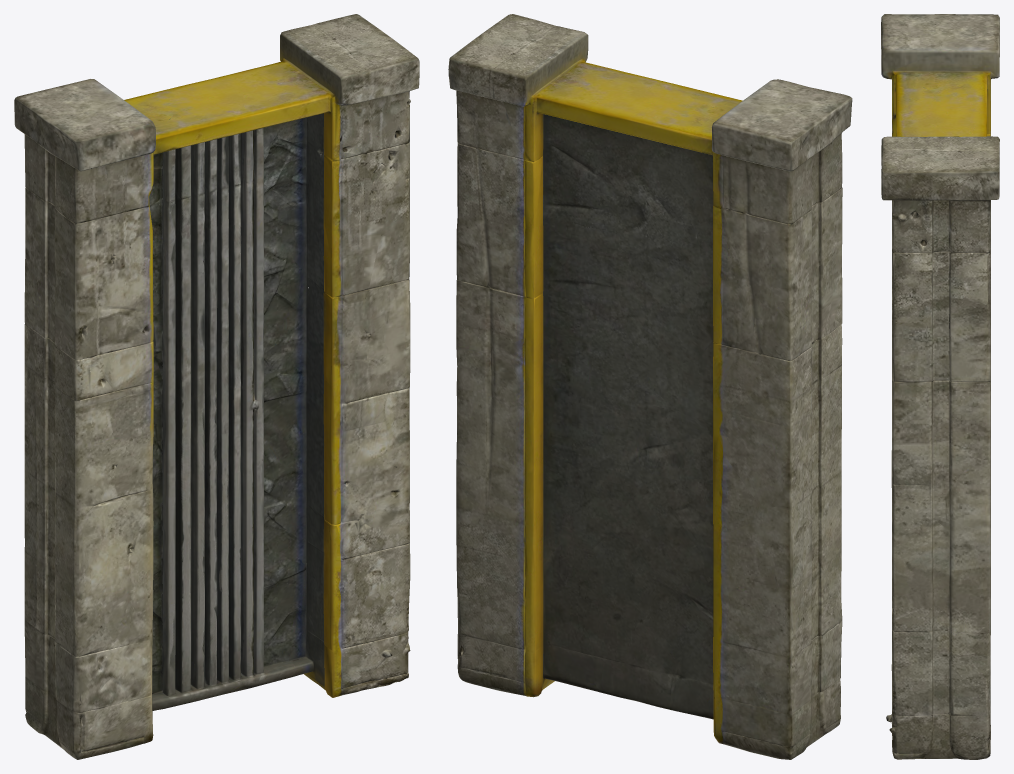
The model's file is dam.glb.
3 views of the same model, side by side, from view 1: azimuth 30°, elevation 25°; view 2: azimuth 150°, elevation 25°; view 3: azimuth 270°, elevation 25° (orthographic). The views are drawn at different scales.
Size of the model in its own units: 0.5652 by 0.98 by 0.1789.
Materials: 1 (1 with a texture image).
